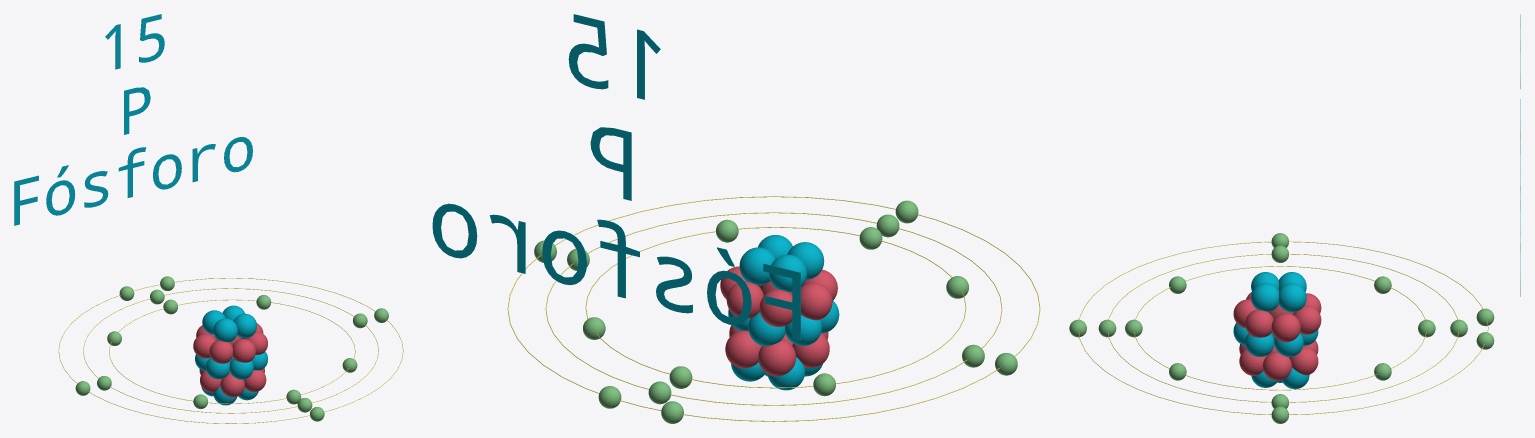
The model's file is 15-FOSFORO-ANDROID.glb.
3 renders of one model, left to right at view 1: azimuth 30°, elevation 25°; view 2: azimuth 150°, elevation 25°; view 3: azimuth 270°, elevation 25°, orthographic. The views are drawn at different scales.
Visible parts, largest first — view 1: Mesh_Mesh_head_geo.001_lambert2SG.001; view 2: Mesh_Mesh_head_geo.001_lambert2SG.001; view 3: Mesh_Mesh_head_geo.001_lambert2SG.001.
Part boxes in pixels (<box>): Mesh_Mesh_head_geo.001_lambert2SG.001: <box>14,14,403,423</box>; Mesh_Mesh_head_geo.001_lambert2SG.001: <box>432,14,1040,423</box>; Mesh_Mesh_head_geo.001_lambert2SG.001: <box>1069,14,1520,423</box>.
Size of the model in its own units: 146 by 135 by 154.
